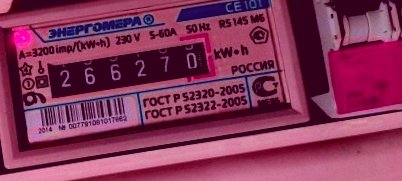0: (182, 49, 199, 71)
2: (56, 67, 72, 89), (133, 57, 149, 79)
6: (81, 64, 96, 87), (107, 61, 123, 82)
7: (158, 53, 171, 74)
screen: (33, 27, 222, 110)
